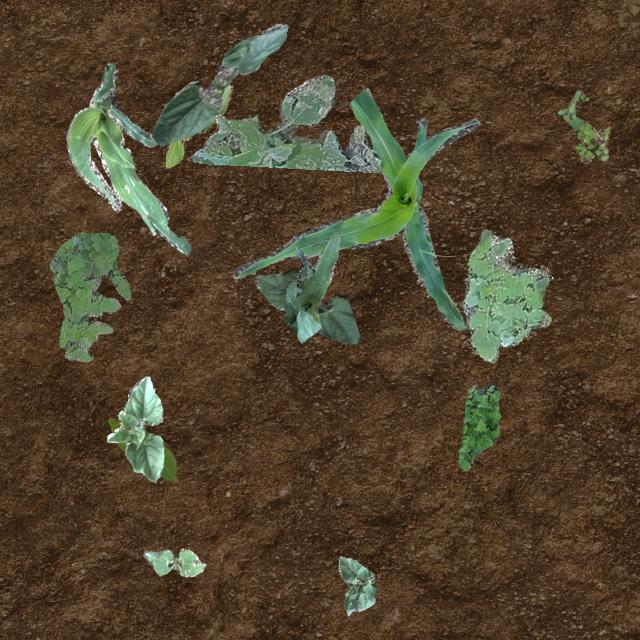crop: (232, 86, 478, 330), (66, 62, 190, 254), (150, 22, 286, 144), (252, 270, 361, 344), (282, 230, 338, 342), (106, 376, 162, 482), (164, 84, 232, 166), (106, 418, 176, 482), (338, 556, 374, 614), (143, 548, 205, 576)
weed: (190, 74, 380, 172), (462, 228, 550, 362), (49, 232, 130, 361), (556, 89, 608, 162), (458, 382, 500, 469)
